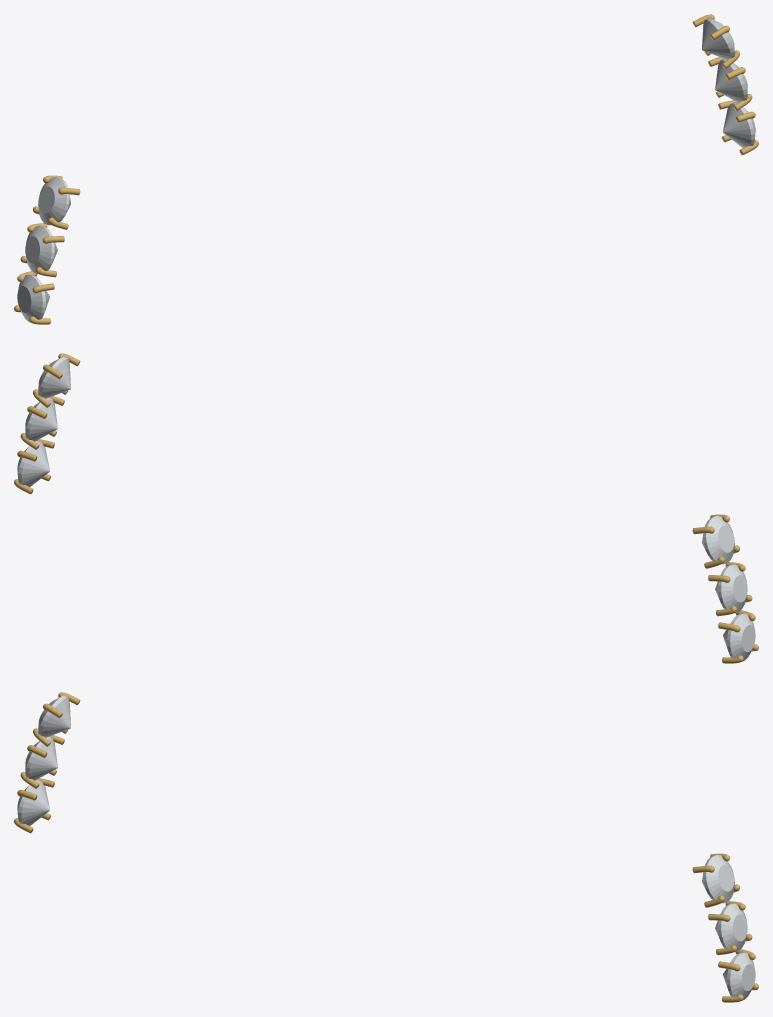
Rendered from accents-micro-pave-multi.glb.
3 views of the same model, one above another, from view 1: azimuth 30°, elevation 25°; view 2: azimuth 150°, elevation 25°; view 3: azimuth 330°, elevation 25° (orthographic).
Parts seen in each view (by area): view 1: Gem, Gem.001, Gem.002, Gem.005, Gem.003, Gem.004; view 2: Gem, Gem.001, Gem.002, Gem.005, Gem.003, Gem.004; view 3: Gem.003, Gem.004, Gem.005, Gem.002, Gem, Gem.001.
Part boxes in pixels (box(x1,y1,x2,y2)): Gem: box(38, 177, 70, 225); Gem.001: box(25, 225, 57, 274); Gem.002: box(17, 274, 49, 322); Gem.005: box(723, 102, 755, 147); Gem.003: box(702, 17, 734, 59); Gem.004: box(715, 58, 747, 102); Gem: box(702, 516, 734, 564); Gem.001: box(715, 564, 747, 613); Gem.002: box(723, 613, 755, 661); Gem.005: box(17, 441, 49, 486); Gem.003: box(38, 356, 70, 398); Gem.004: box(25, 397, 57, 441); Gem.003: box(702, 855, 734, 903); Gem.004: box(715, 903, 747, 952); Gem.005: box(723, 952, 755, 1000); Gem.002: box(17, 780, 49, 825); Gem: box(38, 695, 70, 737); Gem.001: box(25, 736, 57, 780).
Bounding box in the file's own units: 19.82 × 3.51 × 1.15.
